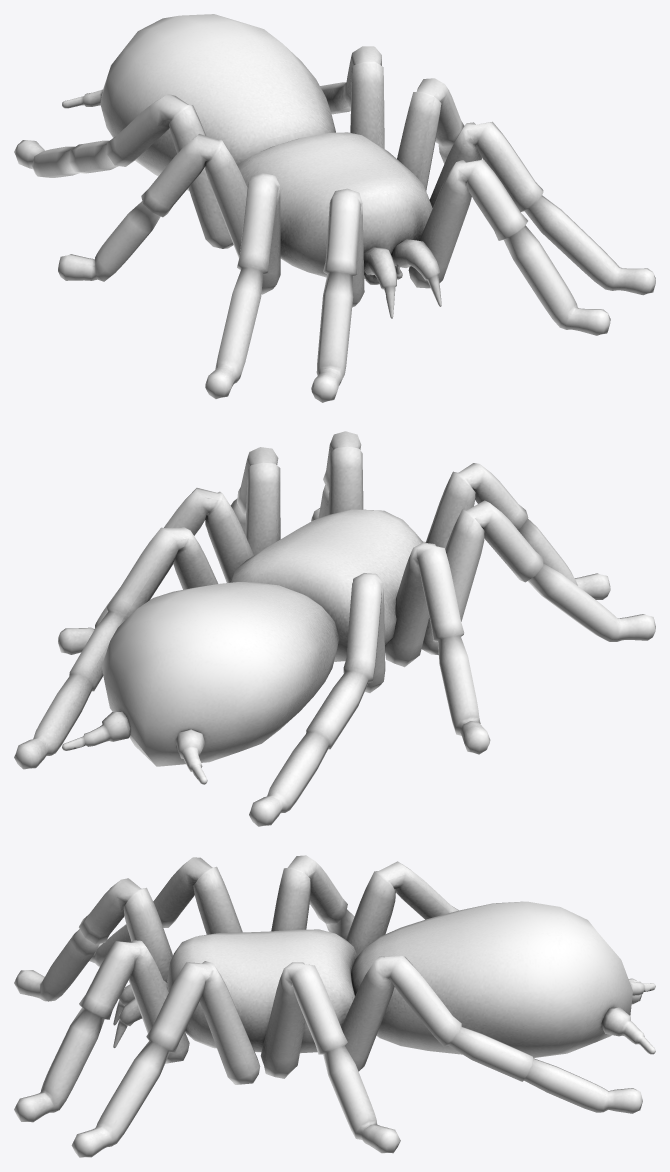
3 views of the same model, one above another, from view 1: azimuth 30°, elevation 25°; view 2: azimuth 150°, elevation 25°; view 3: azimuth 270°, elevation 25° (orthographic). The views are drawn at different scales.
Parts seen in each view (by area): view 1: Tronco; view 2: Tronco; view 3: Tronco.
Part boxes in pixels (x1,y1,x2,y2): Tronco: (14, 14, 655, 402); Tronco: (14, 431, 655, 826); Tronco: (14, 855, 655, 1157).
Bounding box in the file's own units: 6.72 × 2.2 × 8.68.
1 material, 1 textured.
